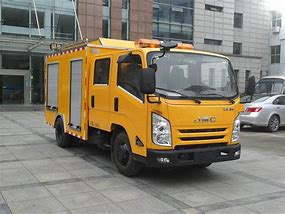specialcar: (28, 31, 243, 177)
